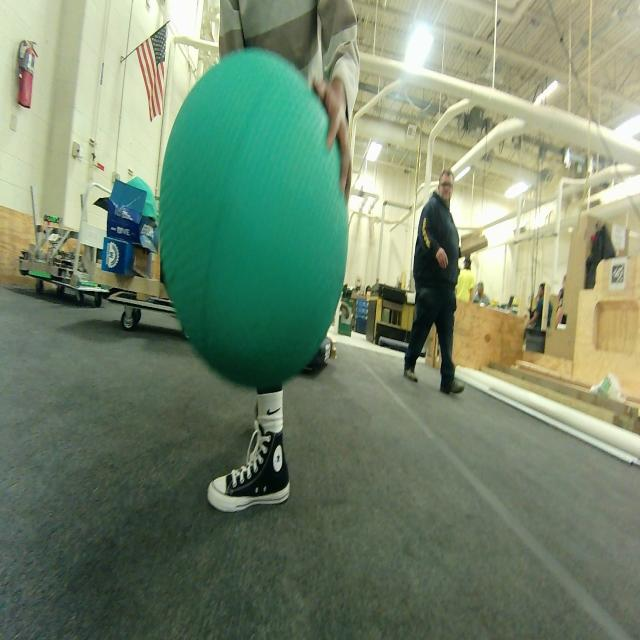algae: (160, 50, 348, 394)
